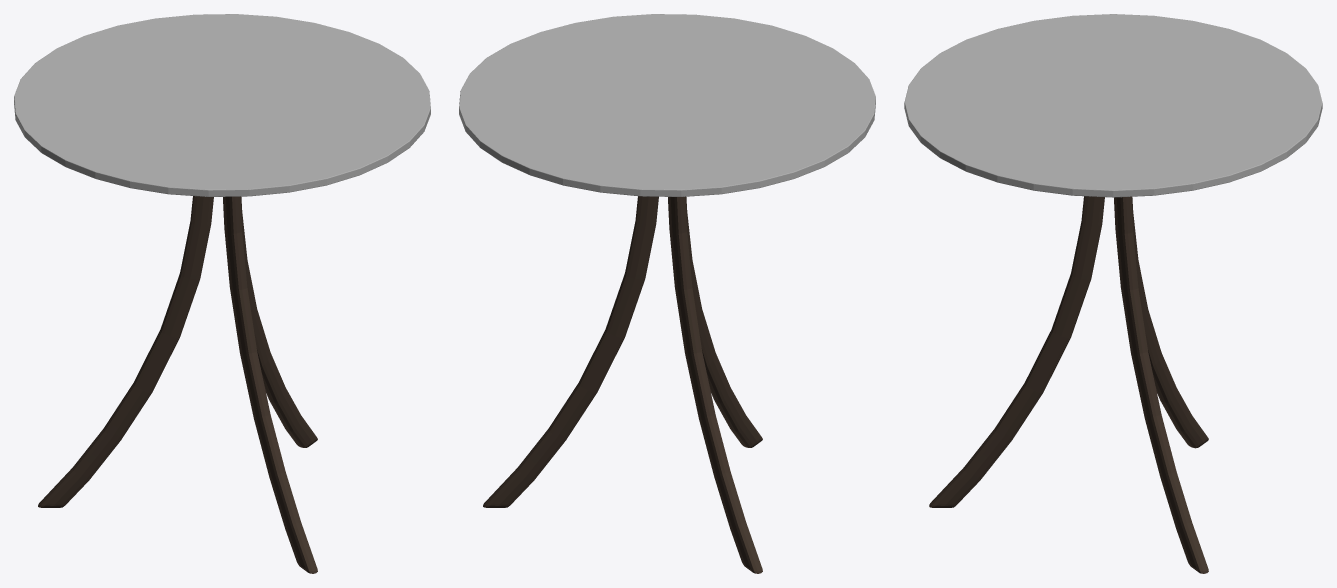
The model's file is RoundTable_ FBX.FBX.
3 views of the same model, side by side, from view 1: azimuth 30°, elevation 25°; view 2: azimuth 150°, elevation 25°; view 3: azimuth 270°, elevation 25° (orthographic).
Visible parts, largest first — view 1: Cylinder001; view 2: Cylinder001; view 3: Cylinder001.
Boxes of the visible parts, box(x1,y1,x2,y2) form: Cylinder001: box(14, 14, 430, 573); Cylinder001: box(459, 14, 875, 573); Cylinder001: box(904, 14, 1322, 573).
Bounding box in the file's own units: 70.22 × 75 × 70.22.
